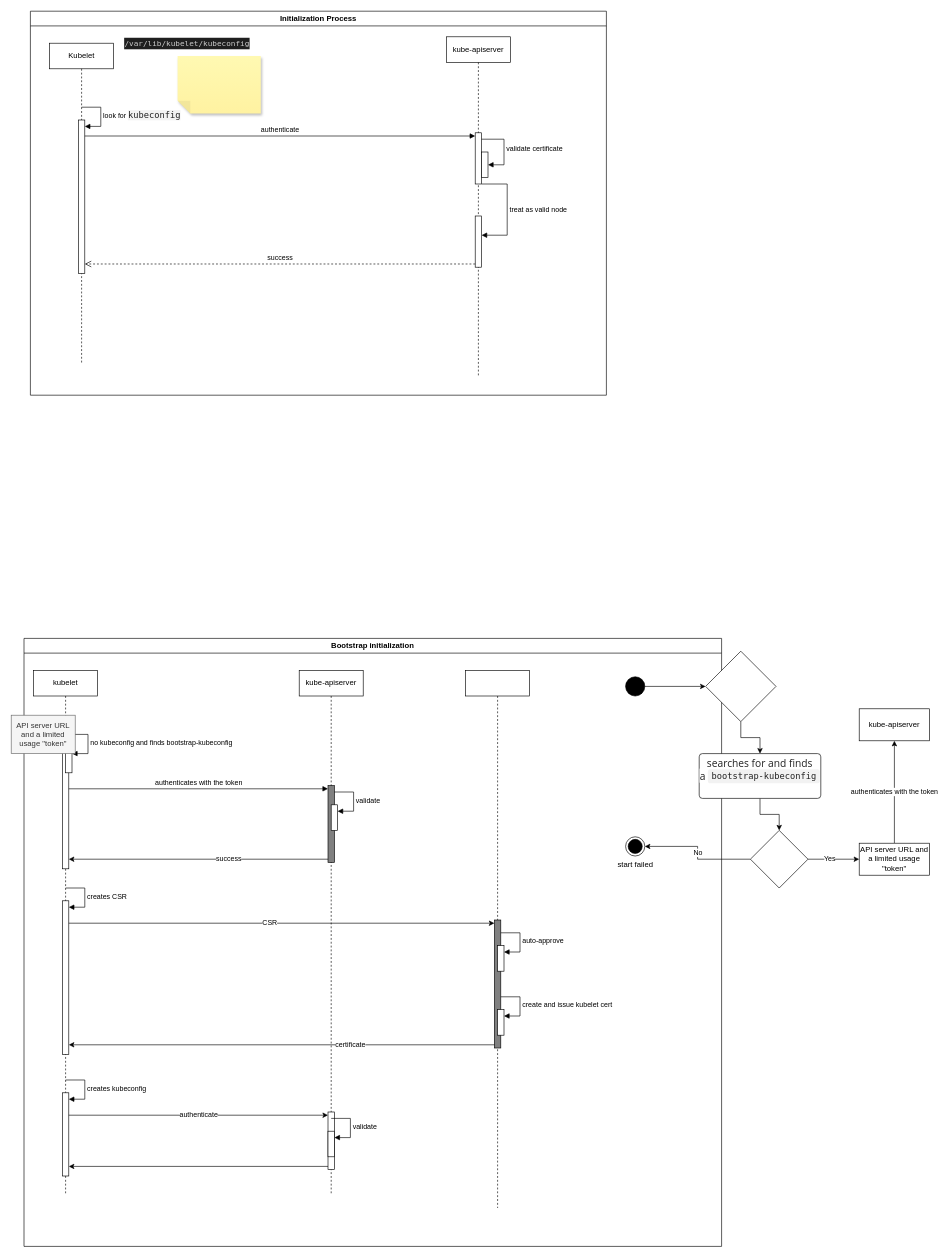
Image size: 948x1258. Some labels were removed from this diagram. The shapes that lost their labels are listed below. From the top down, each one's centre as x and y in pixels, then its label:
point (219, 85): URL of API server TLS key. TLS certificate
point (635, 686): kubelet begins
point (740, 686): finds kubeconfig
point (779, 859): found file?
point (497, 939): kube-controller-manager
